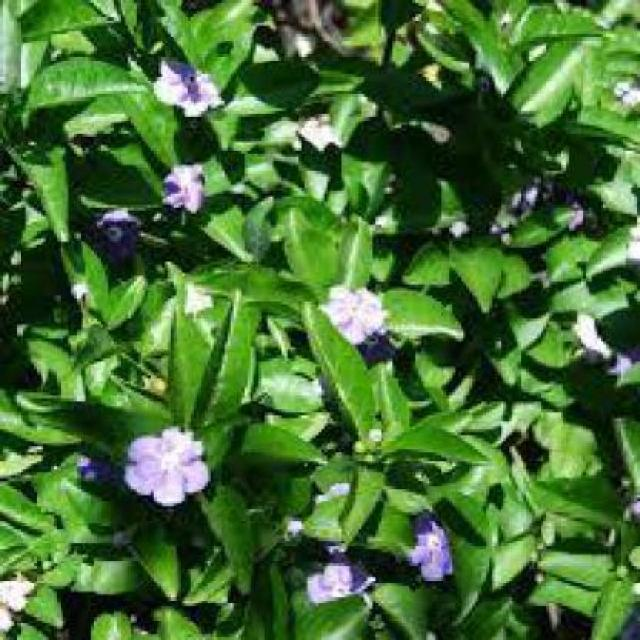flower: (308, 272, 406, 362), (120, 414, 212, 504), (406, 514, 460, 584), (166, 158, 220, 218), (308, 565, 372, 610)
